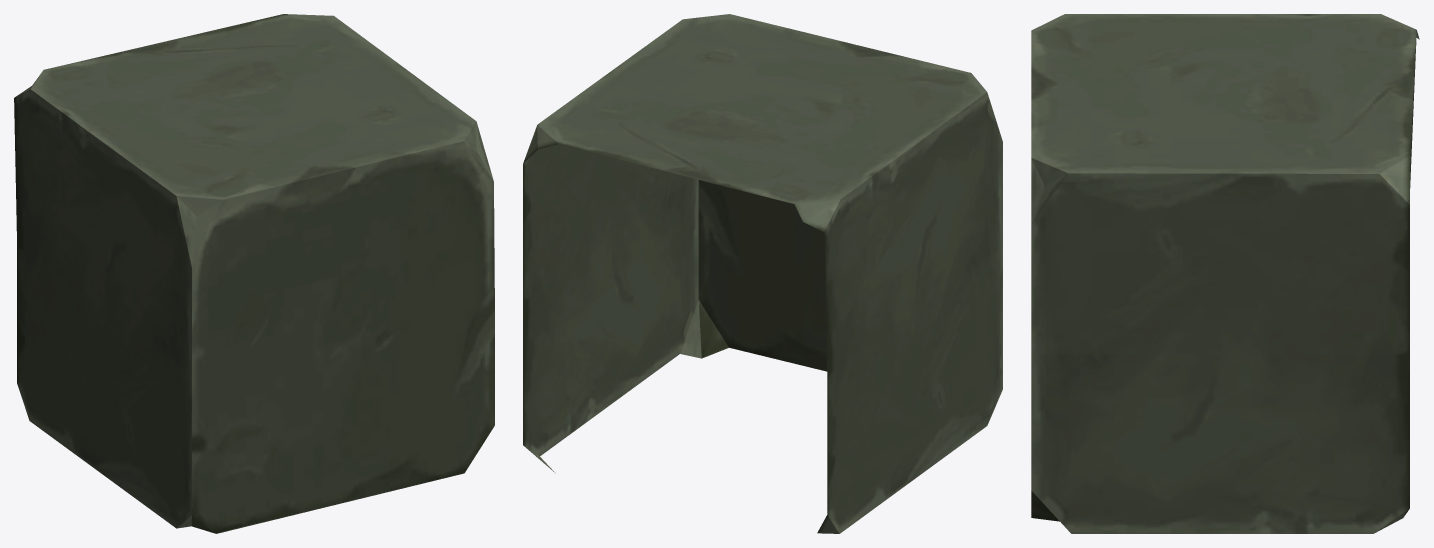
Rendered from cs_zhucheng_zhuanshi_001.FBX.
The picture shows the model from 3 angles, left to right: view 1: azimuth 30°, elevation 25°; view 2: azimuth 150°, elevation 25°; view 3: azimuth 270°, elevation 25°; orthographic projection. The views are drawn at different scales.
Visible parts, largest first — view 1: cs_zhucheng_zhuanshi_001; view 2: cs_zhucheng_zhuanshi_001; view 3: cs_zhucheng_zhuanshi_001.
Part boxes in pixels (x1,y1,x2,y2): cs_zhucheng_zhuanshi_001: (14,14,494,533); cs_zhucheng_zhuanshi_001: (523,14,1002,533); cs_zhucheng_zhuanshi_001: (1031,14,1419,533).
Size of the model in its own units: 274 by 281 by 287.
